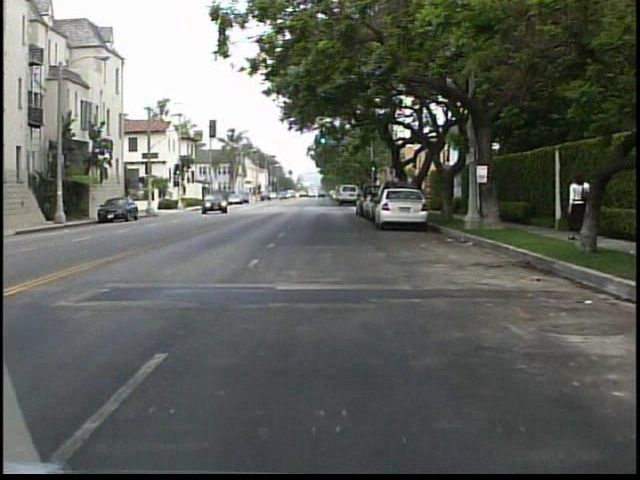person: (558, 166, 596, 251)
